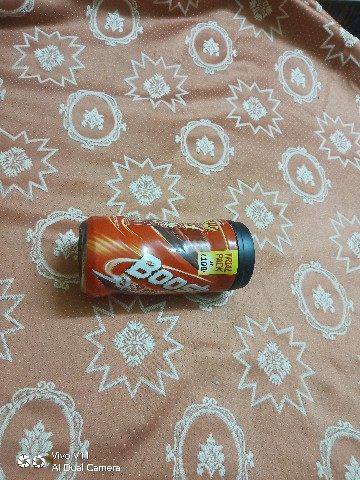boost small: (51, 201, 263, 329)
